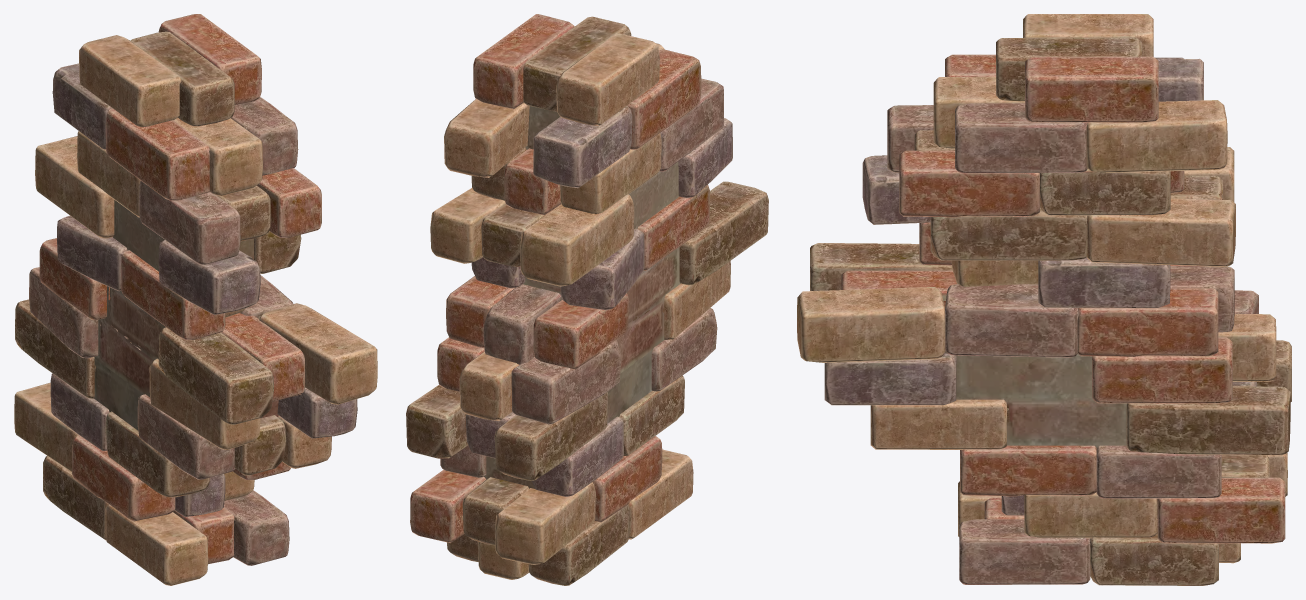
3 renders of one model, left to right at view 1: azimuth 30°, elevation 25°; view 2: azimuth 150°, elevation 25°; view 3: azimuth 270°, elevation 25°, orthographic. The views are drawn at different scales.
Parts seen in each view (by area): view 1: SM_Human_Ruins_Brick_Dmg_01_LOD0; view 2: SM_Human_Ruins_Brick_Dmg_01_LOD0; view 3: SM_Human_Ruins_Brick_Dmg_01_LOD0.
Part boxes in pixels (x1,y1,x2,y2): SM_Human_Ruins_Brick_Dmg_01_LOD0: (14, 14, 377, 585); SM_Human_Ruins_Brick_Dmg_01_LOD0: (406, 14, 768, 585); SM_Human_Ruins_Brick_Dmg_01_LOD0: (797, 14, 1291, 585).
Size of the model in its own units: 0.4616 by 1.37 by 1.2.
Materials: 2 (2 with a texture image).
